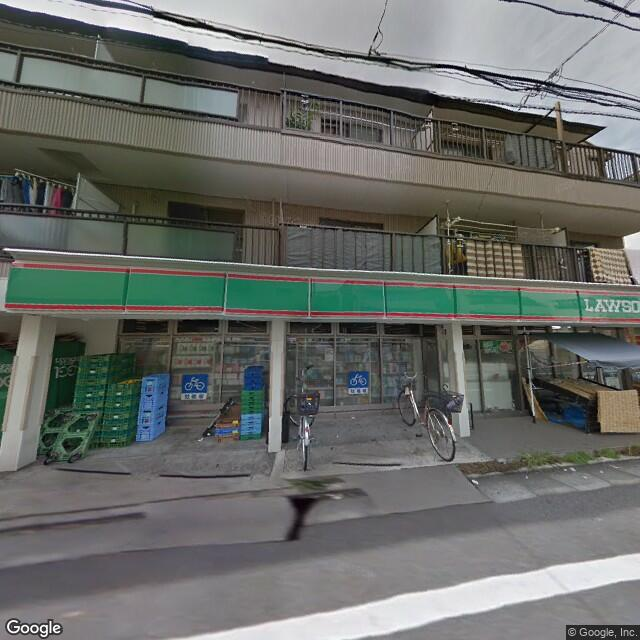lawson: (8, 252, 640, 327)
